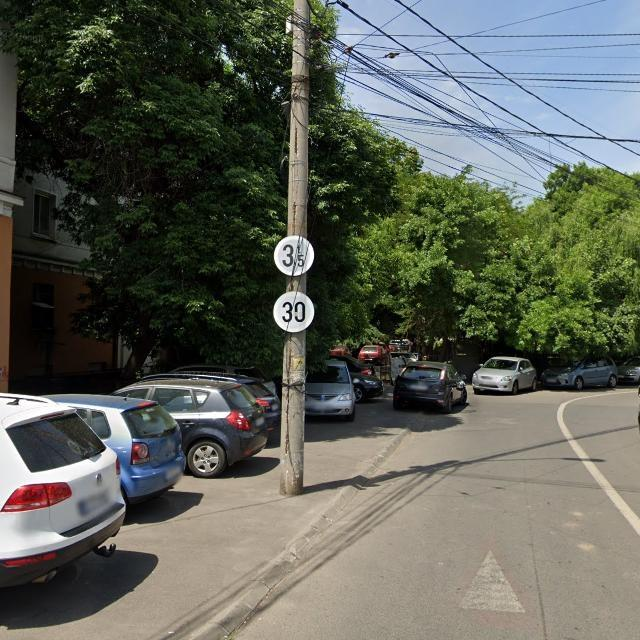forb_speed_over_30: (273, 292, 315, 333)
